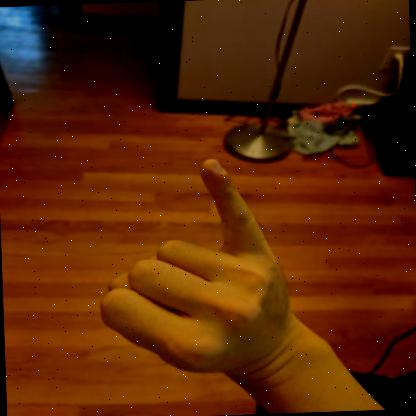I: (100, 159, 300, 378)
